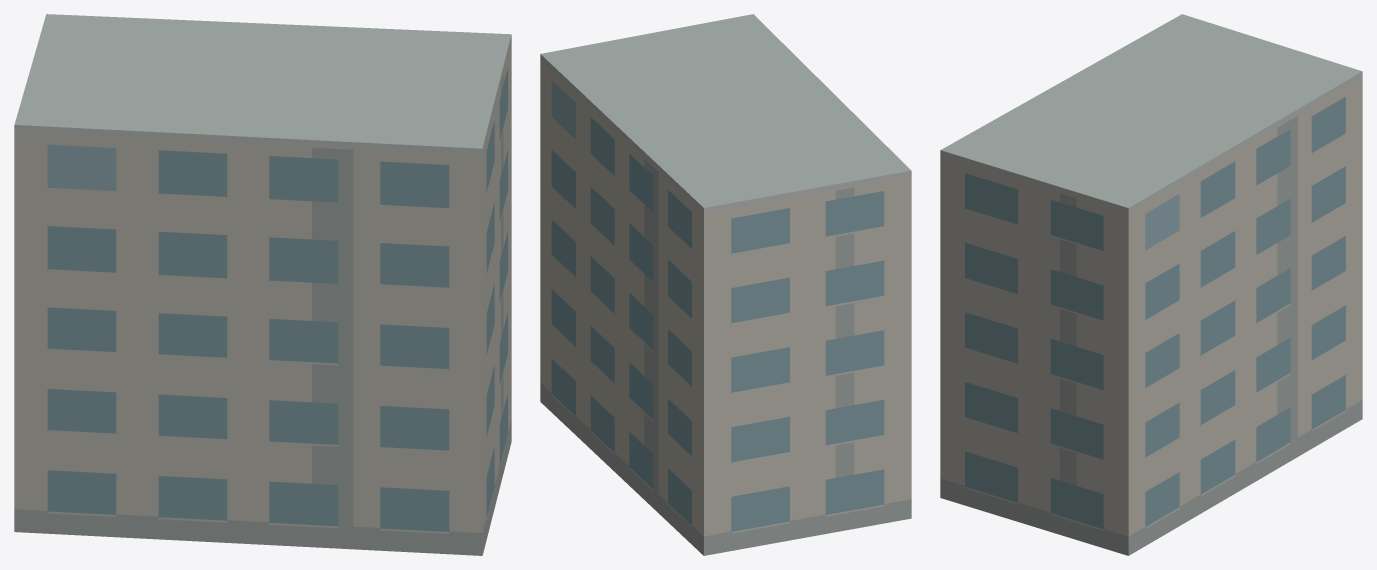
Rendered from survey-upis-32808825.glb.
3 views of the same model, side by side, from view 1: azimuth 30°, elevation 25°; view 2: azimuth 150°, elevation 25°; view 3: azimuth 270°, elevation 25° (orthographic). The views are drawn at different scales.
Parts seen in each view (by area): view 1: survey-upis-32808825.tmp; view 2: survey-upis-32808825.tmp; view 3: survey-upis-32808825.tmp.
Boxes of the visible parts, x1,y1,x2,y2 form: survey-upis-32808825.tmp: (14, 14, 511, 555); survey-upis-32808825.tmp: (540, 14, 911, 555); survey-upis-32808825.tmp: (940, 14, 1362, 555).
Size of the model in its own units: 15.57 by 13 by 14.31.
